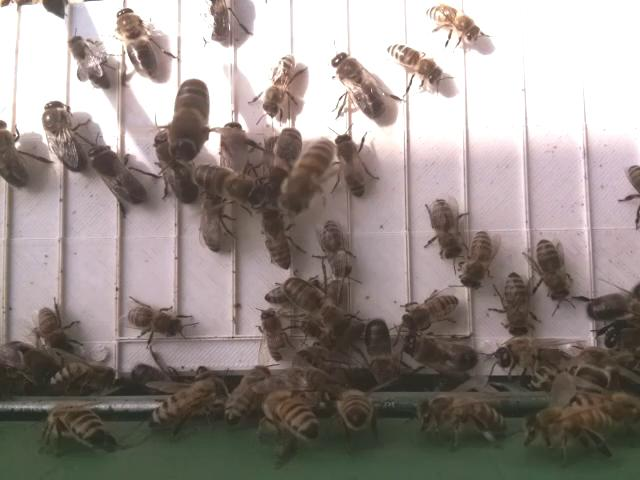Drone: (282, 273, 352, 335), (330, 49, 388, 122), (166, 78, 212, 165), (89, 144, 152, 207), (153, 130, 201, 207), (40, 98, 88, 174), (114, 5, 161, 82), (403, 333, 484, 374), (191, 162, 266, 206), (359, 315, 401, 391), (0, 118, 32, 193)
Worker: (282, 137, 334, 212), (532, 238, 574, 306), (402, 289, 462, 335), (457, 228, 498, 292), (386, 40, 443, 86), (426, 193, 462, 264), (260, 53, 298, 120), (125, 301, 187, 341), (316, 217, 354, 282), (498, 269, 533, 338), (71, 33, 112, 91), (425, 3, 481, 44), (259, 209, 296, 271), (34, 301, 73, 359), (336, 133, 369, 201), (197, 194, 233, 253), (256, 304, 289, 365)
